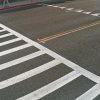Crosswalk: (2, 25, 94, 99)
